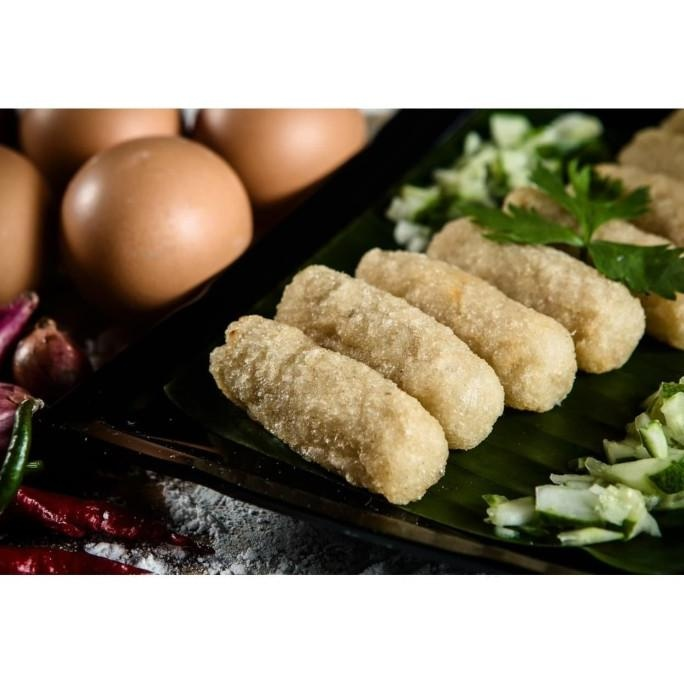pempek: (205, 214, 651, 516)
